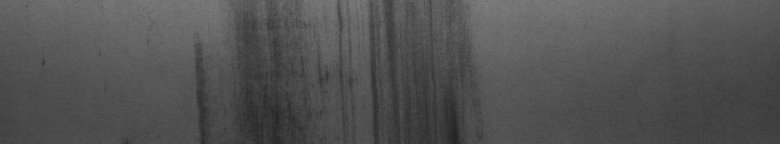ka: (338, 4, 457, 136)
